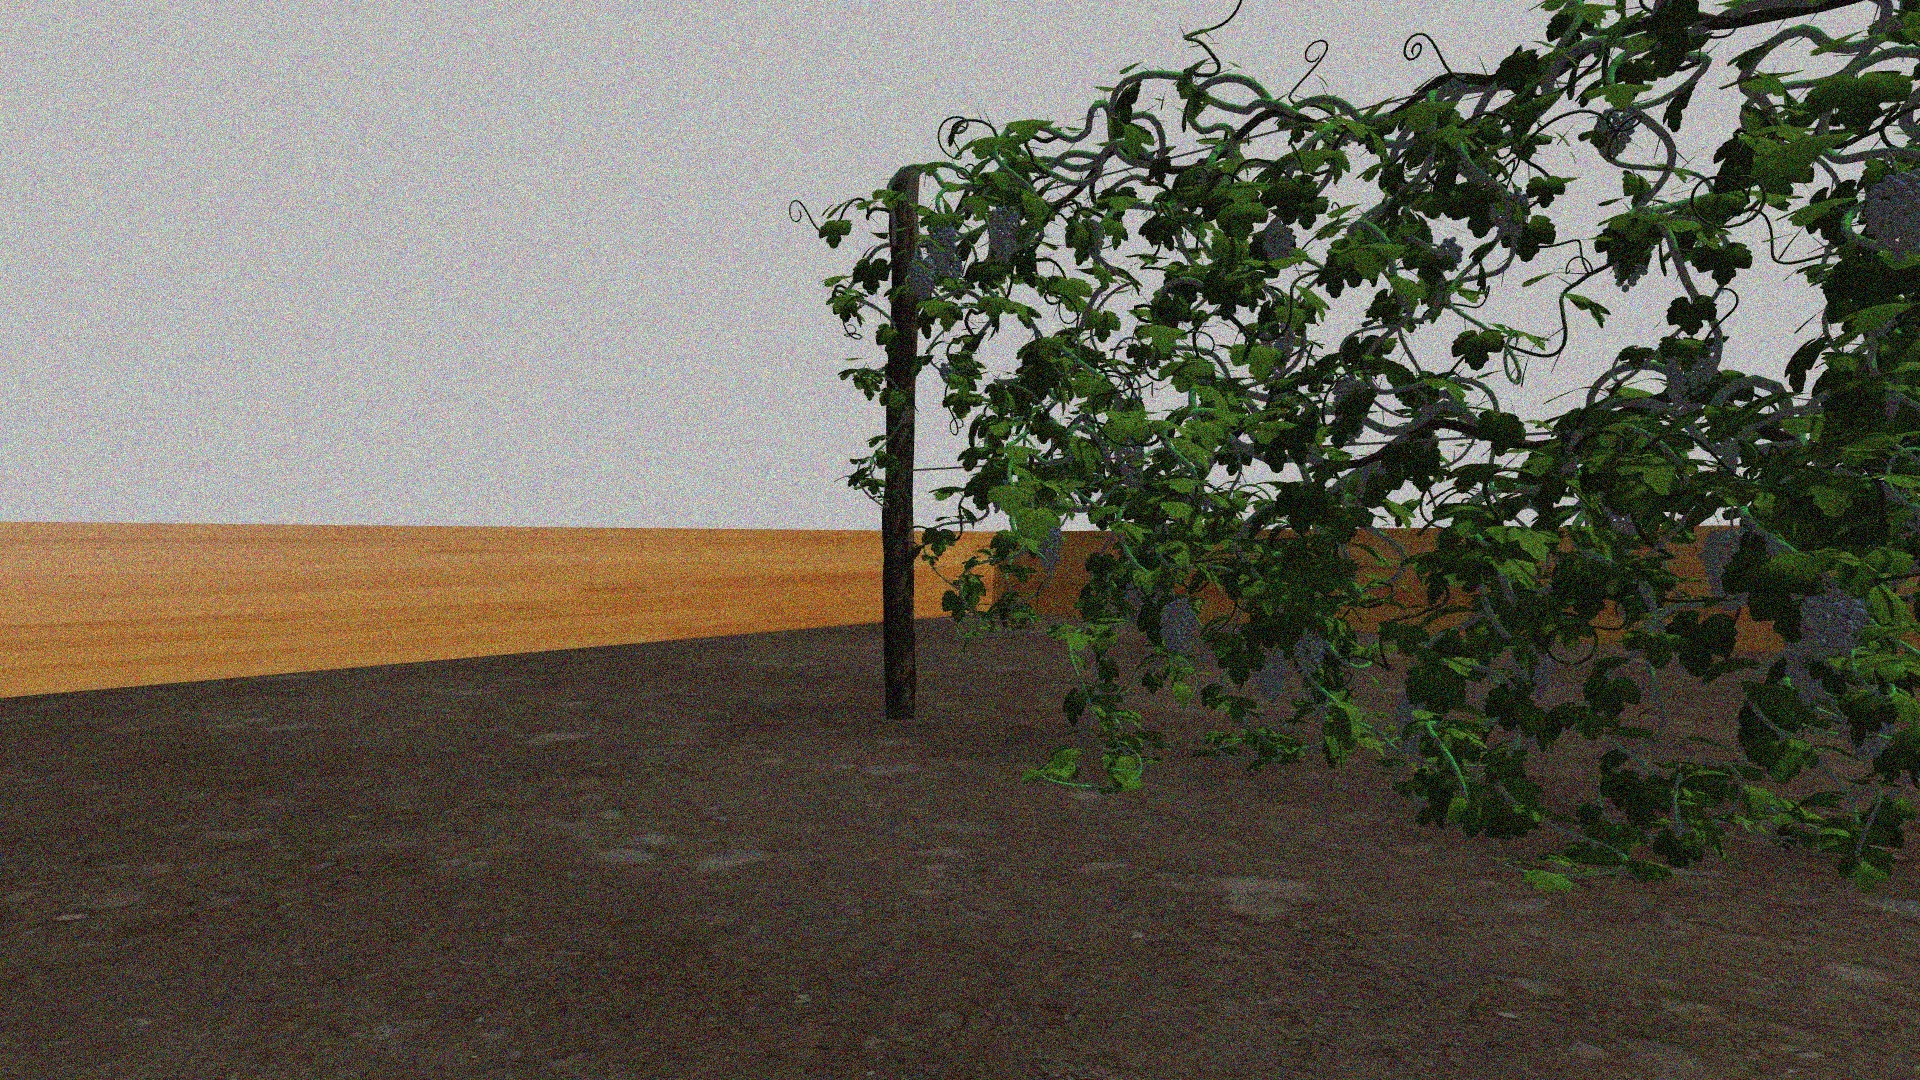grape: (1801, 589, 1865, 663), (1698, 525, 1754, 608), (1863, 174, 1915, 255), (1663, 345, 1717, 410), (1783, 642, 1828, 707), (1393, 690, 1429, 767), (1509, 646, 1553, 698), (1159, 597, 1197, 657), (1251, 644, 1287, 704), (1594, 105, 1635, 157), (989, 204, 1021, 266), (924, 220, 956, 270), (1294, 633, 1328, 676), (1429, 233, 1465, 274), (906, 258, 938, 302), (1036, 529, 1065, 571), (1262, 224, 1295, 258)
